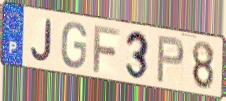3: (124, 29, 153, 82)
8: (191, 40, 215, 92)
F: (92, 23, 122, 75)
G: (59, 21, 88, 71)
J: (29, 18, 53, 64)
P: (155, 34, 186, 85)
